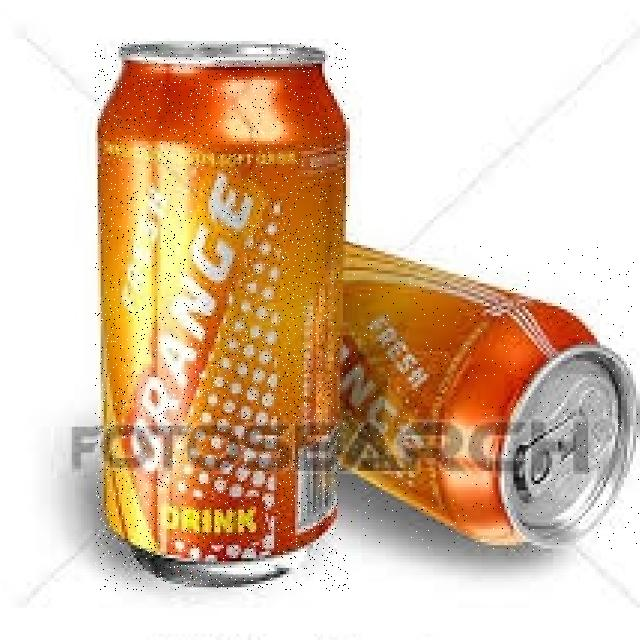metal: (96, 42, 349, 591), (341, 245, 639, 552)
